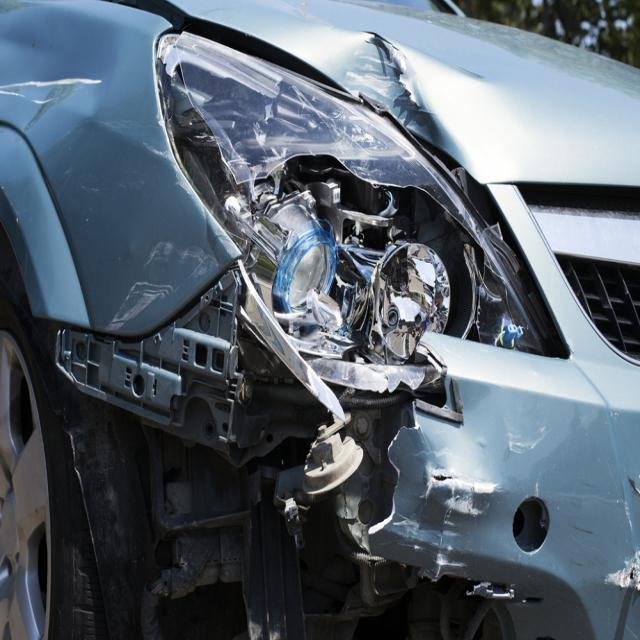dent: (6, 5, 116, 145), (335, 36, 453, 149)
lamp broken: (154, 30, 552, 386)
scratch: (402, 461, 502, 579), (111, 238, 221, 331), (598, 546, 640, 593)
